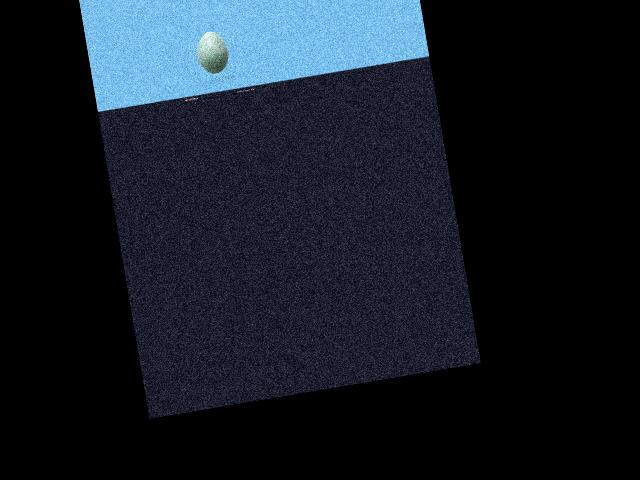egg: (194, 28, 231, 75)
